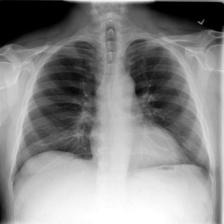normal: (8, 33, 214, 194)
